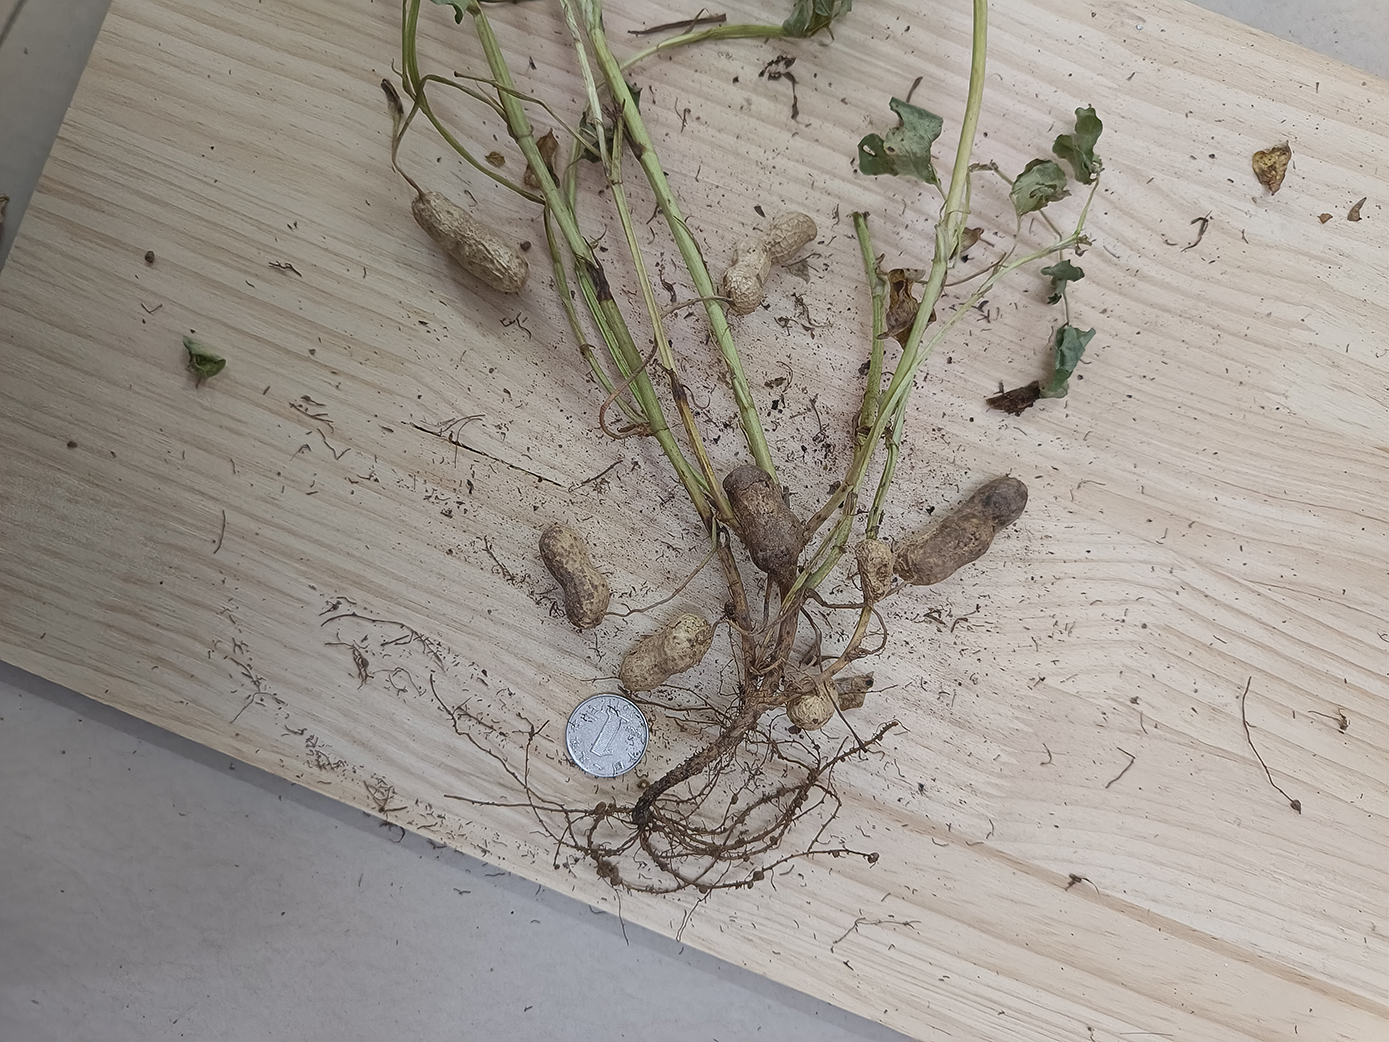h: (412, 190, 529, 294), (724, 211, 819, 314), (541, 525, 610, 628), (620, 614, 710, 688), (789, 678, 837, 729), (857, 542, 894, 602)
l: (901, 481, 1029, 584), (724, 466, 805, 572)
